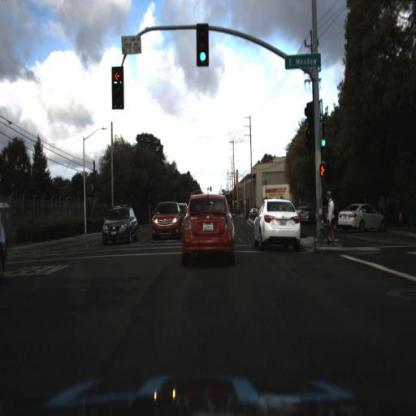biker: (312, 192, 344, 254)
car: (180, 192, 239, 267), (254, 198, 302, 252), (98, 199, 139, 245), (340, 203, 387, 236), (149, 201, 182, 241), (310, 201, 334, 226)
trafficLight: (196, 23, 211, 68), (319, 122, 331, 149)
trafficLight-RedLeft: (113, 66, 126, 112)
